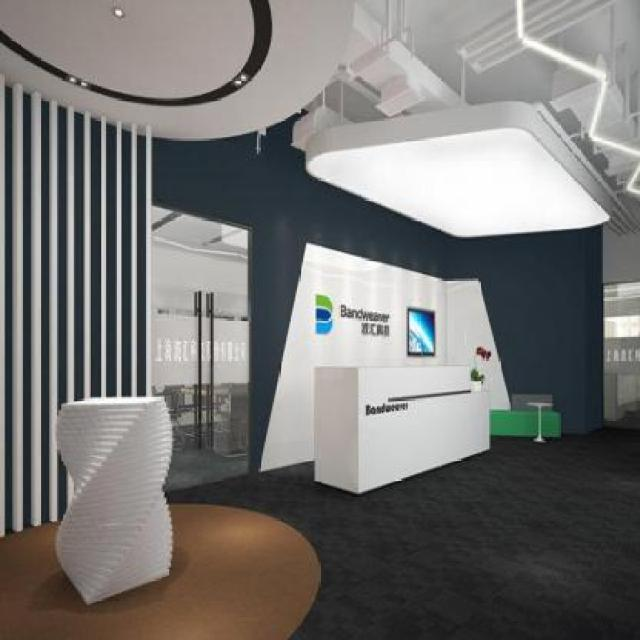frontdesk: (308, 352, 493, 500)
